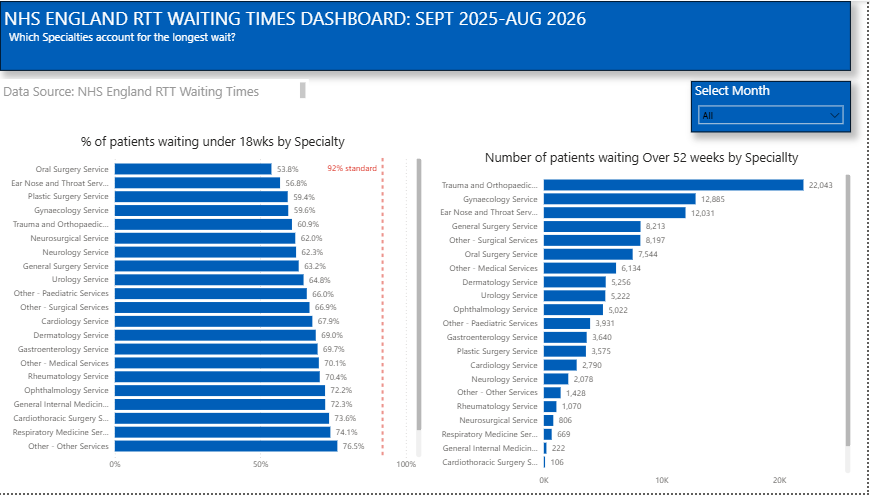

The page's visual inventory and layout, read from the dashboard file:
{"tool":"powerbi","page":{"name":"Specialties","canvas":[1280,720],"ordinal":3},"visuals":[{"type":"textbox","box":[11.8,0,1244.7,102.5],"z":0},{"type":"textbox","box":[149.5,297.3,181.4,97.4],"z":1000},{"type":"textbox","box":[11.8,114.2,451.9,33.6],"z":2000},{"type":"clusteredBarChart","title":"% of patients waiting under 18wks by Specialty","fields":{"Category":["rtt_powerbi.treatment_function_name"],"Y":["rtt_powerbi.% Under 18wks"]},"box":[11.7,191.7,622,504.9],"z":3000},{"type":"slicer","title":"Select Month","fields":{"Values":["rtt_powerbi.period"]},"box":[1022.9,117.1,234.1,74.6],"z":4000},{"type":"clusteredBarChart","title":"Number of patients waiting Over 52 weeks by Speciallty","fields":{"Category":["rtt_powerbi.treatment_function_name"],"Y":["rtt_powerbi.Waiting 52 Latest"]},"box":[639.5,215.1,622,504.9],"z":5000}]}

Visuals, with their boxes in screenshot pixels (x1, y1, x2, y2), scaled from the page's 1280x720 canvas onto the 870x498 screenshot:
textbox: (8,0,854,71)
textbox: (102,206,225,273)
textbox: (8,79,315,102)
"% of patients waiting under 18wks by Specialty" clusteredBarChart: (8,133,431,482)
"Select Month" slicer: (695,81,854,133)
"Number of patients waiting Over 52 weeks by Speciallty" clusteredBarChart: (435,149,857,497)
